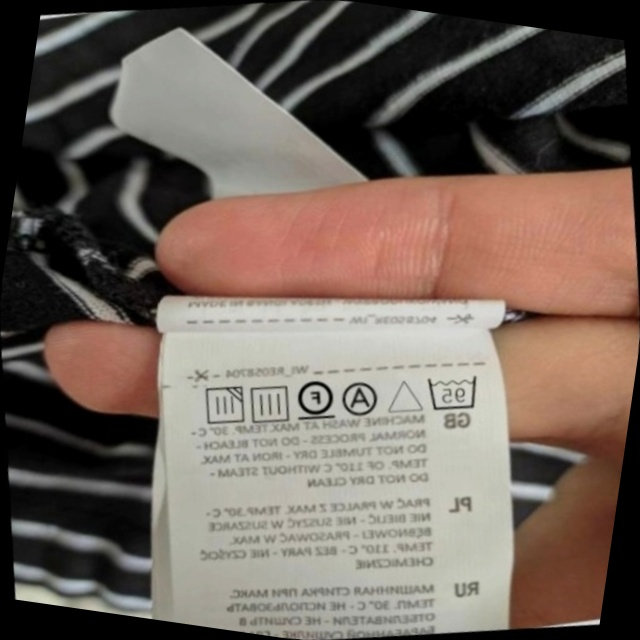95C: (418, 364, 486, 420)
bleach: (381, 369, 429, 421)
drip_dry: (241, 375, 298, 431)
drip_dry_in_shade: (193, 377, 251, 434)
dry_clean: (336, 374, 386, 422)
dry_clean_petrol_only: (289, 370, 341, 427)
